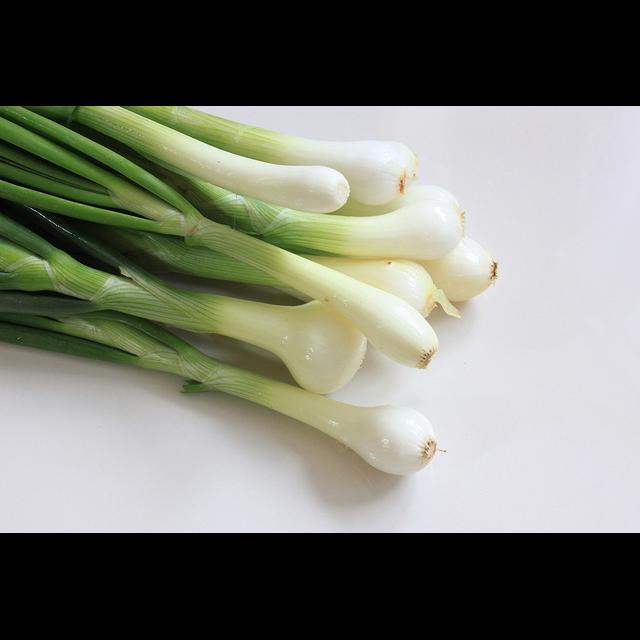green_onion: (0, 106, 500, 478)
